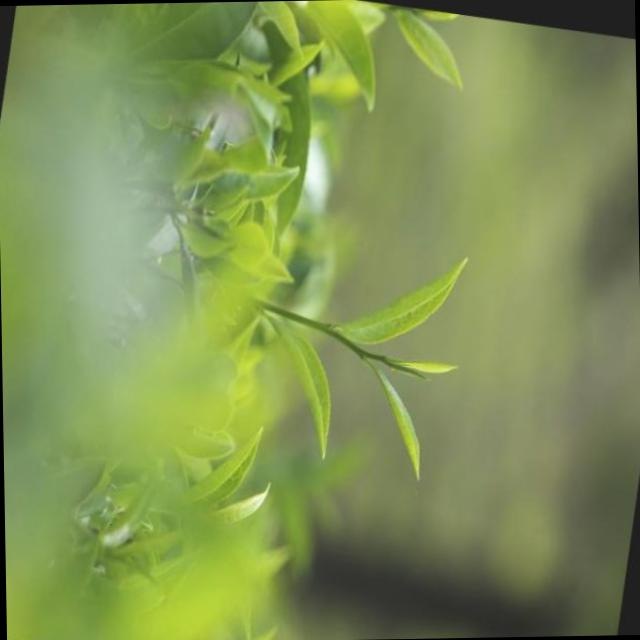Stem: (304, 318, 328, 332)
